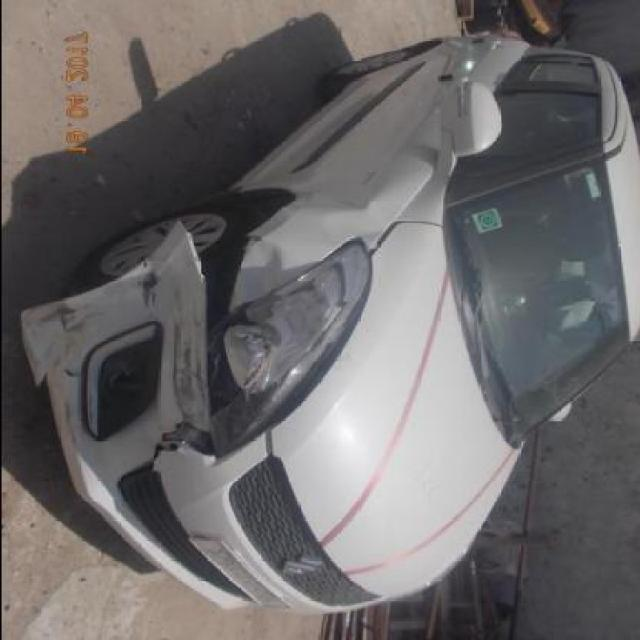damage: (182, 222, 244, 416), (169, 297, 209, 431), (227, 234, 283, 308), (149, 417, 215, 471), (19, 301, 109, 334), (135, 260, 162, 307)
